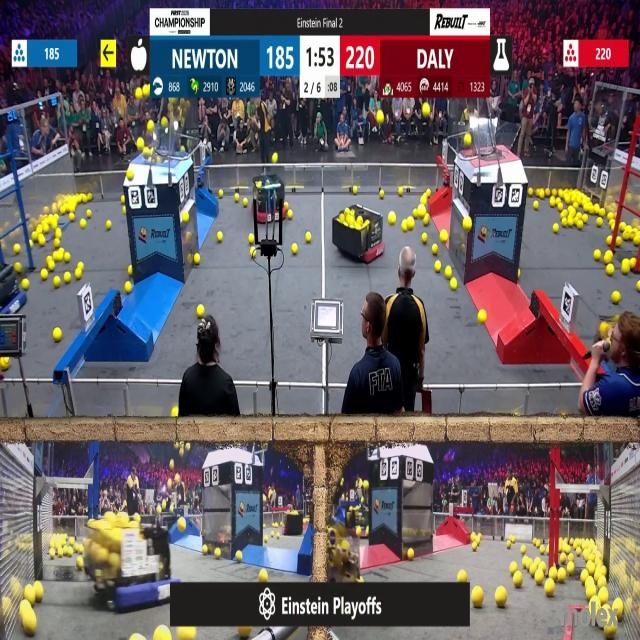ball_airborne: (377, 110, 385, 124), (422, 104, 430, 118), (463, 134, 471, 146), (142, 87, 150, 98), (136, 88, 143, 100), (138, 138, 144, 150), (148, 119, 154, 130), (272, 152, 278, 163), (163, 117, 169, 127), (144, 147, 150, 157), (128, 170, 134, 180), (362, 480, 368, 490), (168, 480, 173, 490), (163, 500, 168, 510), (170, 460, 175, 469), (175, 473, 180, 482), (180, 146, 186, 152), (170, 504, 174, 512), (180, 449, 184, 457)
ball_ground: (24, 614, 37, 636), (471, 587, 482, 608), (496, 587, 506, 608), (157, 627, 171, 640), (34, 585, 44, 603), (604, 625, 615, 640), (26, 586, 36, 602), (599, 320, 609, 336), (182, 628, 195, 640), (544, 581, 553, 598), (462, 216, 472, 230), (598, 590, 608, 604), (537, 570, 546, 585), (514, 572, 523, 586), (0, 357, 9, 370), (258, 568, 267, 581), (622, 262, 630, 276), (587, 586, 595, 600), (458, 570, 467, 582), (54, 328, 62, 341), (558, 569, 566, 582), (603, 251, 612, 262), (479, 310, 486, 324), (594, 249, 602, 261), (388, 212, 396, 224), (566, 563, 574, 575), (611, 291, 619, 302), (198, 306, 205, 318), (76, 558, 83, 570), (579, 571, 586, 583), (630, 258, 638, 268), (546, 567, 554, 577), (598, 576, 606, 586), (408, 550, 415, 561), (442, 232, 449, 243), (214, 549, 221, 560), (451, 279, 458, 290), (172, 408, 179, 419), (126, 282, 133, 293), (47, 261, 54, 272), (446, 268, 453, 279), (75, 270, 82, 280), (434, 263, 441, 273), (41, 270, 48, 280), (23, 280, 30, 290), (181, 212, 188, 222), (560, 554, 567, 564), (57, 252, 64, 262), (292, 244, 298, 255), (193, 253, 199, 264), (606, 266, 612, 277), (65, 273, 71, 284), (55, 277, 61, 288), (419, 207, 426, 216), (237, 552, 243, 562), (203, 543, 209, 553), (248, 235, 254, 245), (423, 215, 429, 225), (14, 264, 20, 274), (422, 234, 428, 244), (617, 237, 623, 247), (13, 244, 19, 254), (634, 237, 640, 247), (512, 562, 518, 572), (523, 558, 529, 568), (409, 218, 415, 228), (538, 188, 544, 198), (68, 548, 74, 558), (558, 202, 564, 212), (432, 244, 437, 255), (106, 220, 112, 229), (576, 220, 582, 229), (69, 213, 75, 222), (39, 238, 45, 247), (596, 217, 602, 226), (401, 221, 407, 230), (413, 208, 419, 217), (551, 199, 557, 208), (606, 237, 612, 246), (567, 217, 573, 226), (56, 230, 62, 239), (43, 223, 49, 232), (75, 543, 81, 552), (307, 234, 312, 244), (217, 233, 222, 243), (65, 252, 70, 262), (287, 210, 292, 220), (80, 218, 85, 228), (32, 232, 37, 242), (132, 635, 142, 640), (49, 550, 54, 560), (55, 240, 61, 248), (534, 202, 540, 210), (77, 263, 83, 271), (421, 198, 427, 206), (185, 233, 191, 241), (88, 192, 94, 200), (352, 186, 358, 194), (608, 219, 614, 227), (28, 241, 34, 249), (539, 562, 545, 570), (554, 223, 559, 232), (88, 210, 93, 219), (517, 271, 522, 280), (584, 214, 589, 223), (530, 566, 535, 575), (636, 281, 640, 292), (397, 188, 403, 195), (552, 188, 558, 195), (562, 210, 568, 217), (129, 267, 133, 277), (218, 189, 223, 197), (250, 248, 255, 256), (562, 218, 567, 226), (528, 187, 533, 195), (539, 545, 544, 553), (426, 188, 431, 196), (568, 554, 573, 562), (544, 188, 549, 196), (621, 222, 626, 230), (381, 189, 385, 198), (522, 544, 526, 553), (358, 576, 364, 582), (121, 207, 125, 215), (236, 192, 240, 200), (244, 200, 248, 208), (472, 542, 476, 550), (120, 197, 124, 205), (506, 540, 510, 548), (284, 202, 288, 210), (277, 536, 281, 542), (266, 536, 269, 542)
goal: (467, 121, 521, 160), (130, 128, 186, 160)
robot_blue: (92, 516, 176, 610), (0, 264, 26, 318), (345, 506, 371, 539)
robot_red: (332, 206, 385, 264), (252, 172, 287, 222)
